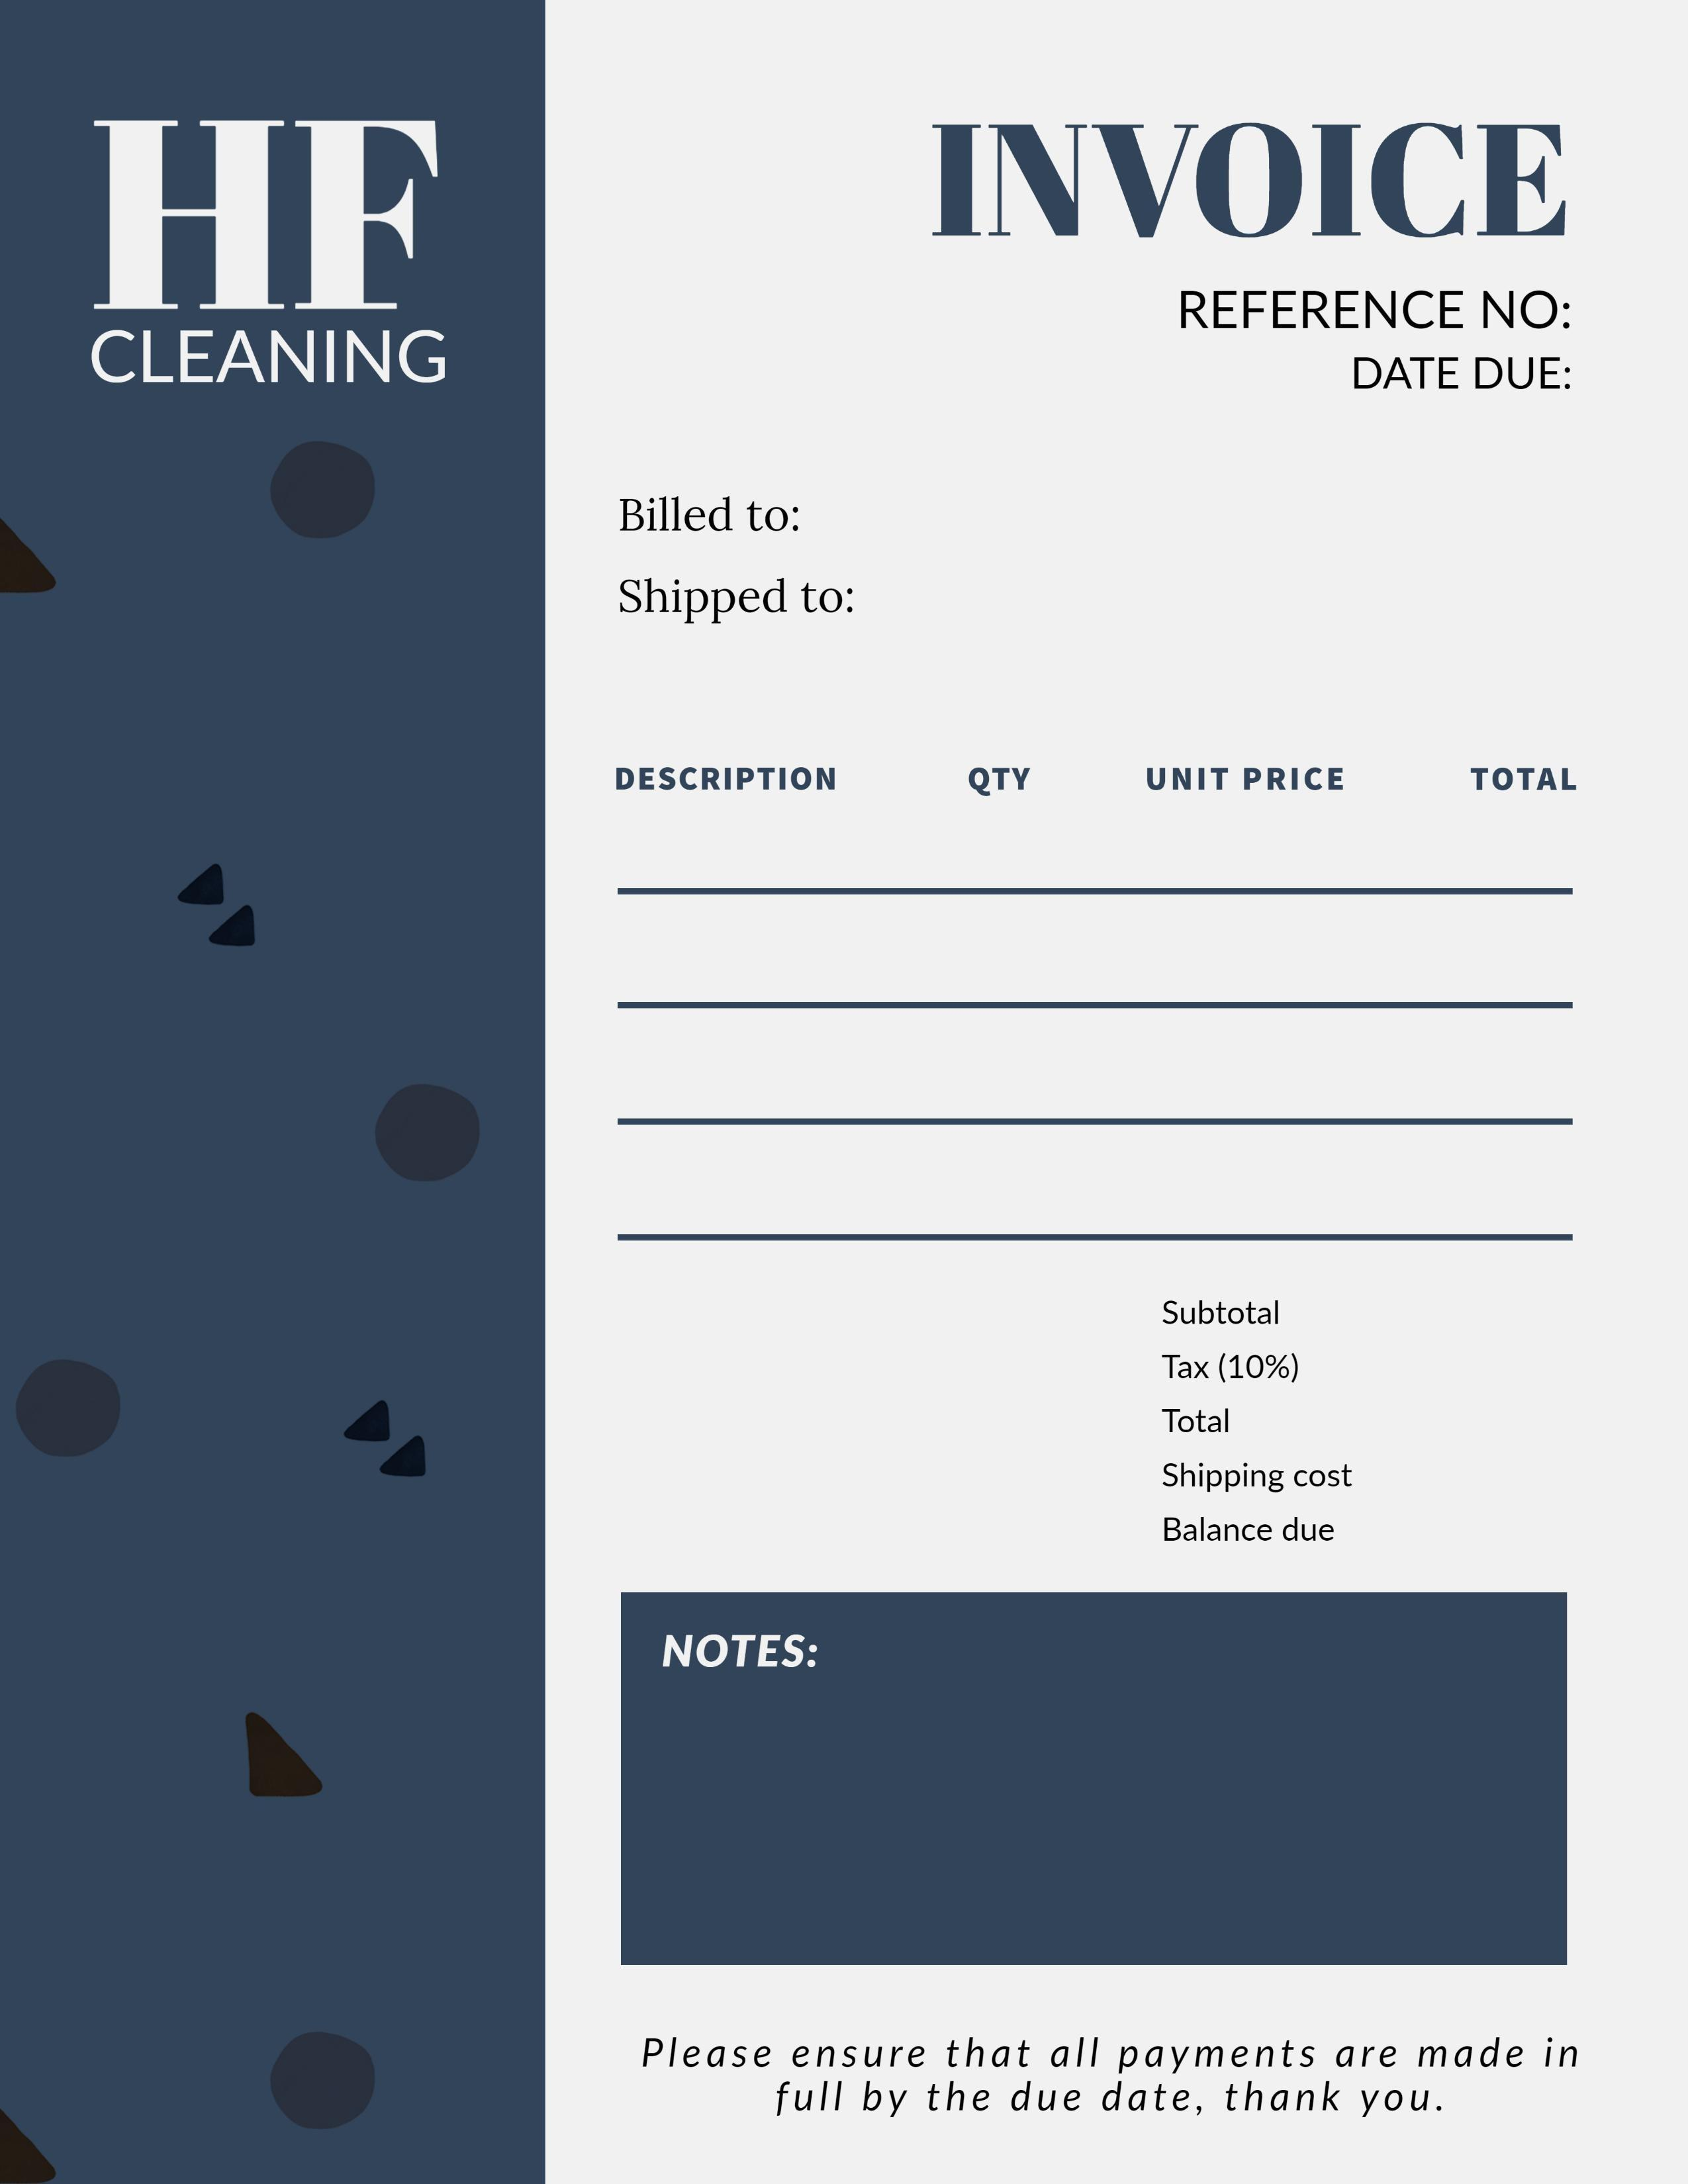ROI: (603, 750, 1587, 1257), (601, 459, 1427, 659), (631, 2003, 1624, 2154), (69, 94, 484, 404), (1140, 266, 1667, 413), (1156, 1283, 1401, 1549)
